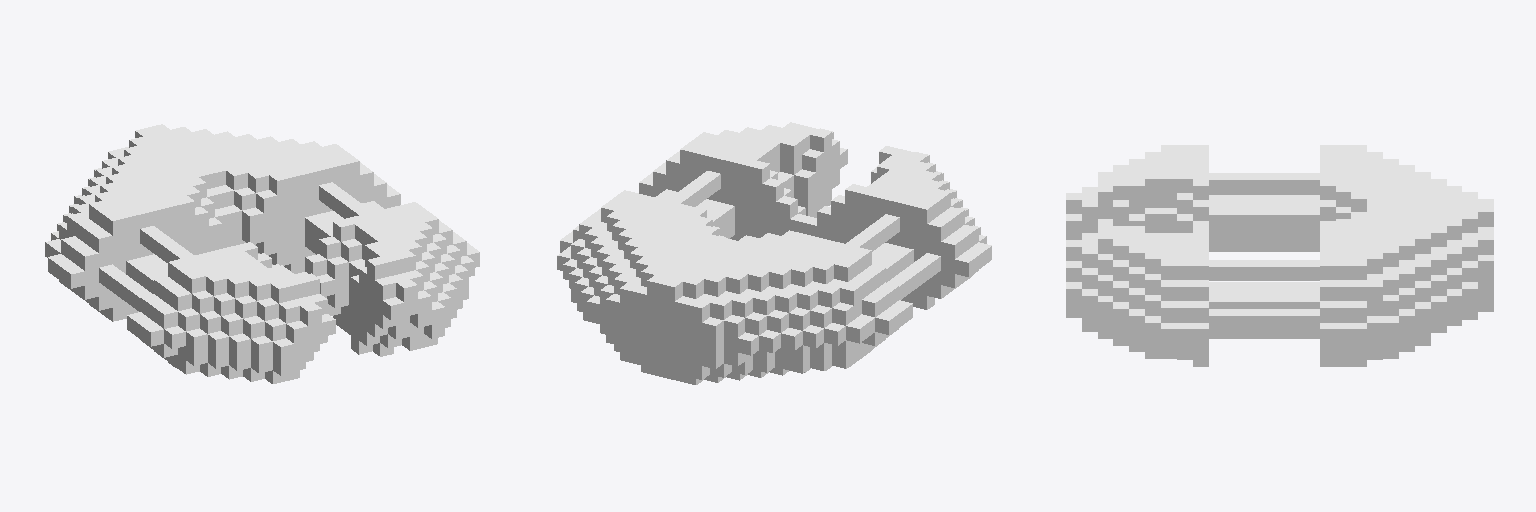
Rendered from enemyCraftBomber.obj.
The picture shows the model from 3 angles: view 1: azimuth 30°, elevation 25°; view 2: azimuth 150°, elevation 25°; view 3: azimuth 270°, elevation 25°; orthographic projection.
Parts seen in each view (by area): view 1: object 1; view 2: object 1; view 3: object 1.
Part boxes in pixels (x1,y1,x2,y2): object 1: (45, 124, 479, 383); object 1: (557, 122, 991, 384); object 1: (1066, 145, 1493, 366).
Bounding box in the file's own units: 2.4 × 0.7 × 2.7.